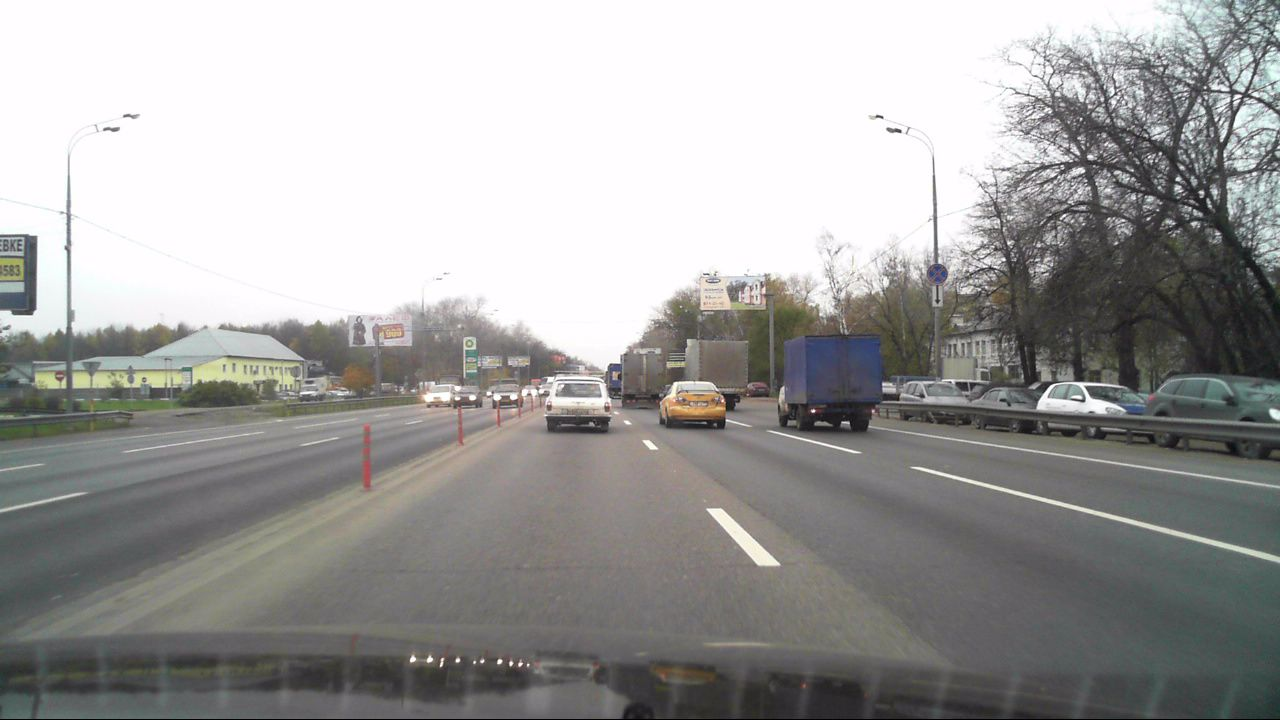No Parking: (926, 263, 947, 284)
